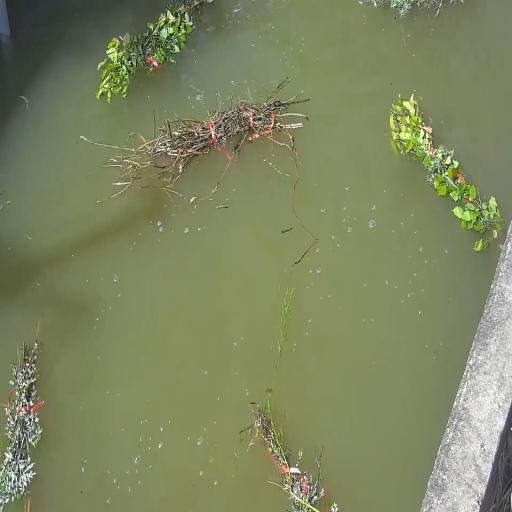twig: (94, 78, 309, 191), (389, 94, 502, 238), (96, 0, 206, 103), (241, 399, 327, 512), (0, 336, 44, 512), (358, 0, 443, 17), (281, 293, 292, 340)
